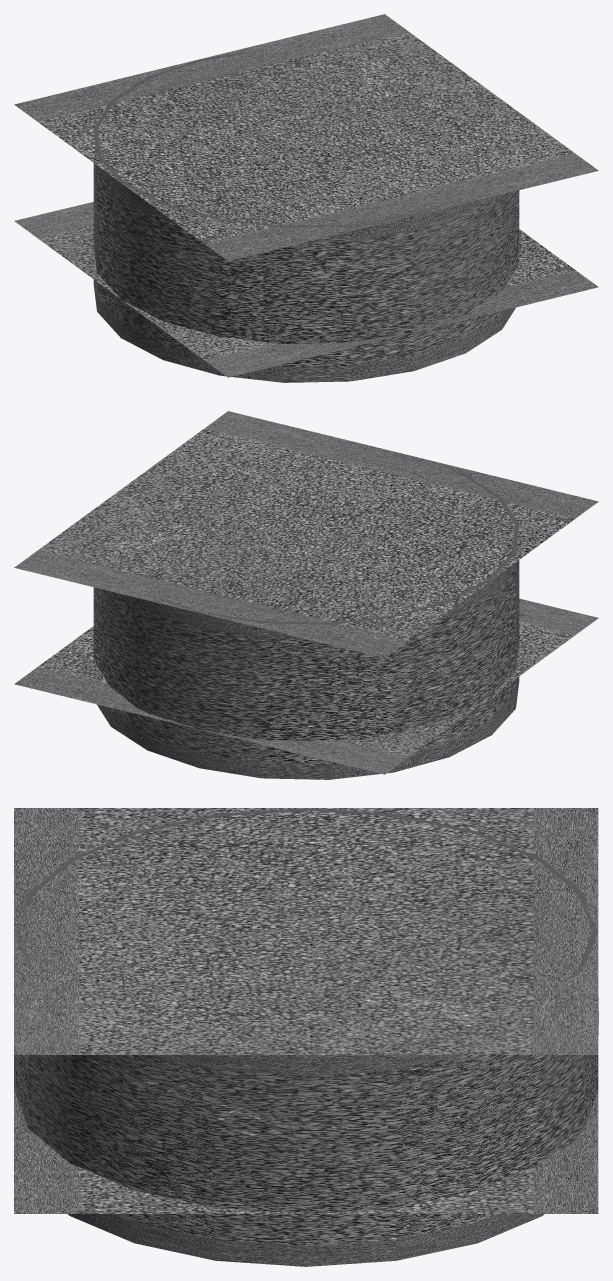
The model's file is Stage0.fbx.
The picture shows the model from 3 angles, top to bottom: view 1: azimuth 30°, elevation 25°; view 2: azimuth 150°, elevation 25°; view 3: azimuth 270°, elevation 25°; orthographic projection. The views are drawn at different scales.
Visible parts, largest first — view 1: mqo_mesh; view 2: mqo_mesh; view 3: mqo_mesh.
Part boxes in pixels (x1,y1,x2,y2): mqo_mesh: (14,14,598,382); mqo_mesh: (14,411,598,779); mqo_mesh: (14,808,598,1266).
Size of the model in its own units: 1000 by 400 by 1001.
